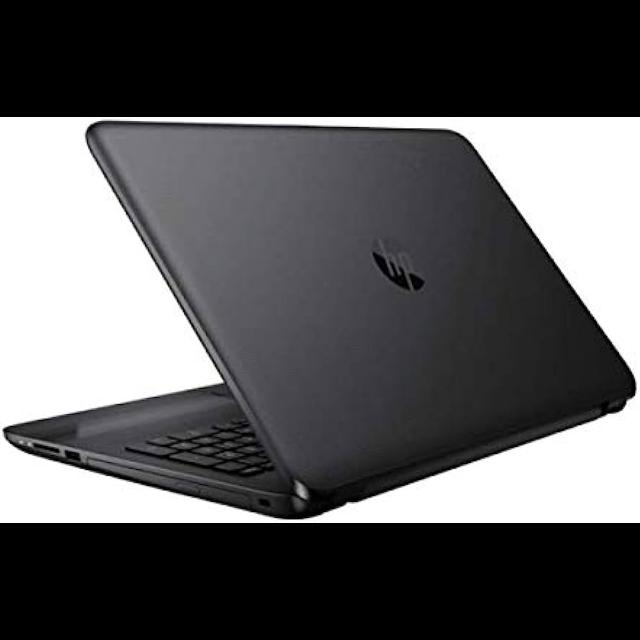Laptop: (20, 118, 636, 516)
